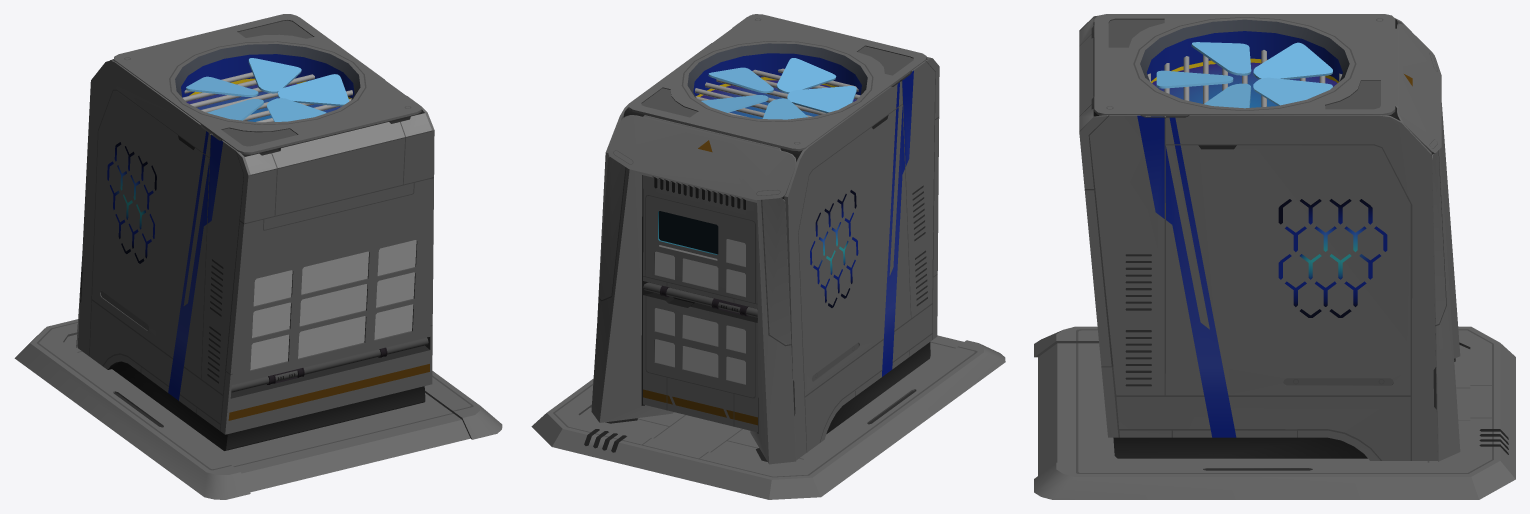
The model's file is W_O_Outdoorunit_001_L0.fbx.
3 views of the same model, side by side, from view 1: azimuth 30°, elevation 25°; view 2: azimuth 150°, elevation 25°; view 3: azimuth 270°, elevation 25° (orthographic). The views are drawn at different scales.
Visible parts, largest first — view 1: W_O_Outdoorunit_001_L0; view 2: W_O_Outdoorunit_001_L0; view 3: W_O_Outdoorunit_001_L0.
Part boxes in pixels (x1,y1,x2,y2): W_O_Outdoorunit_001_L0: (14,14,502,499); W_O_Outdoorunit_001_L0: (531,14,1005,499); W_O_Outdoorunit_001_L0: (1034,14,1515,499).
Size of the model in its own units: 1.61 by 1.63 by 2.01.
